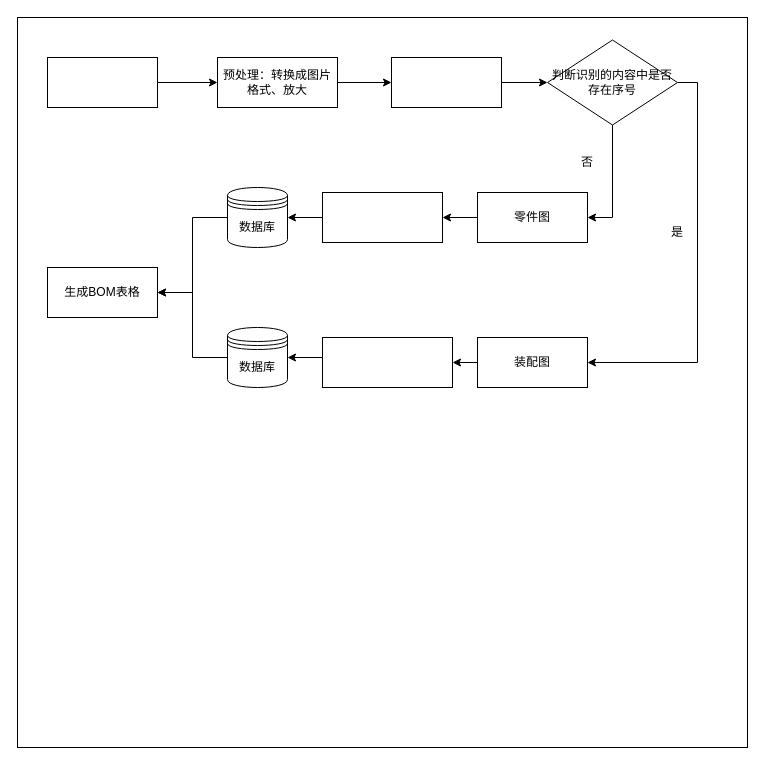
This 765x765 diagram has some shape labels left out. The centre of each missing label's shape, as x and y in pixels:
"OCR识别表格单元格内容、位置" goes at (446,82).
"pdf图纸" goes at (102,82).
"添加配置项，提取图纸标题栏、明细栏信息" goes at (387,362).
"添加配置项，提取图纸标题栏信息" goes at (382,217).
